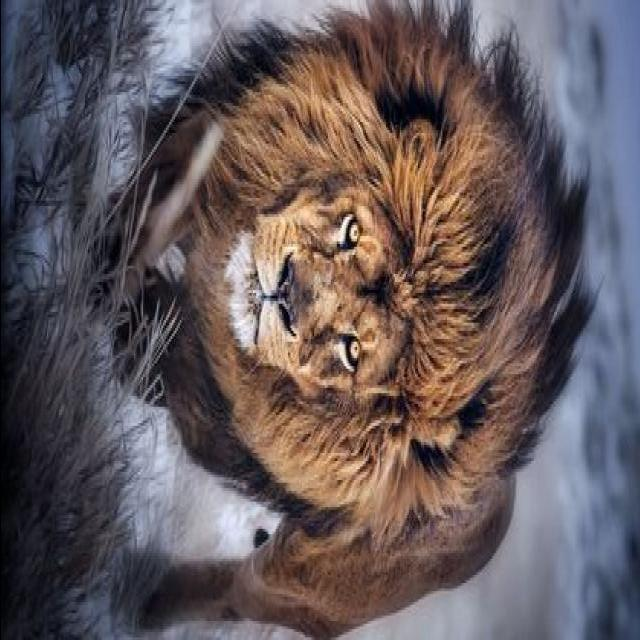lions: (97, 0, 640, 640)
